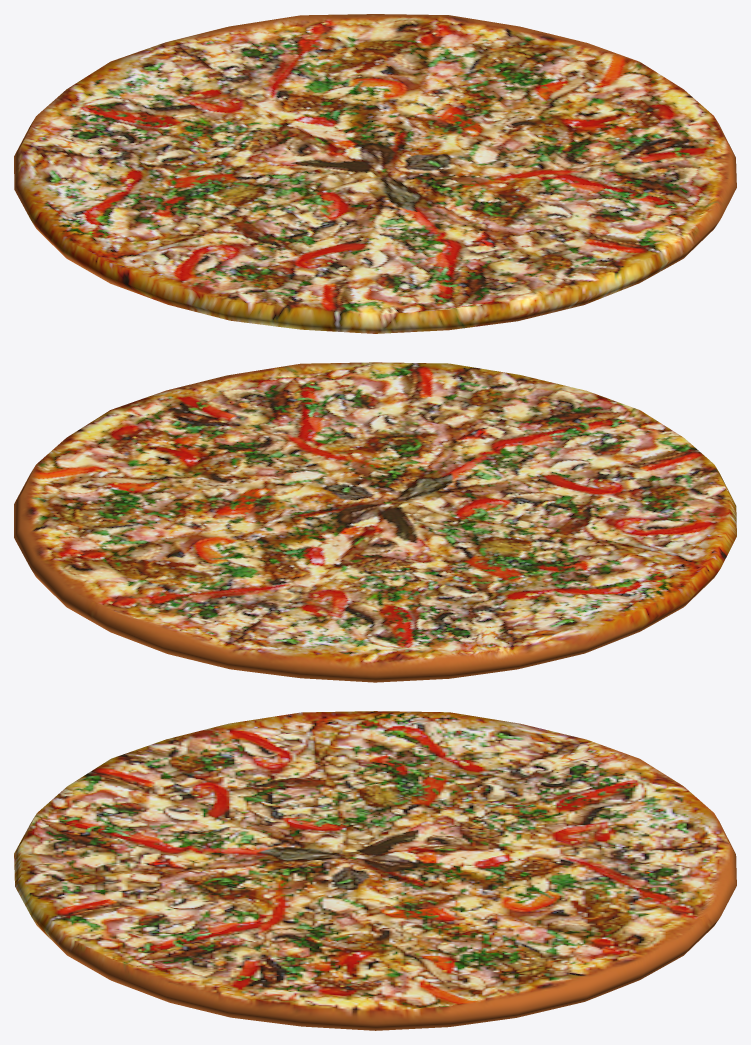
File: snack_pizza_01.fbx
3 views of the same model, one above another, from view 1: azimuth 30°, elevation 25°; view 2: azimuth 150°, elevation 25°; view 3: azimuth 270°, elevation 25° (orthographic).
Visible parts, largest first — view 1: pizza; view 2: pizza; view 3: pizza.
Part boxes in pixels (box(x1,y1,x2,y2)): pizza: box(14, 14, 736, 333); pizza: box(14, 362, 736, 682); pizza: box(14, 711, 736, 1030).
Size of the model in its own units: 1.1 by 0.0377 by 1.1.
Materials: 1 (1 with a texture image).
